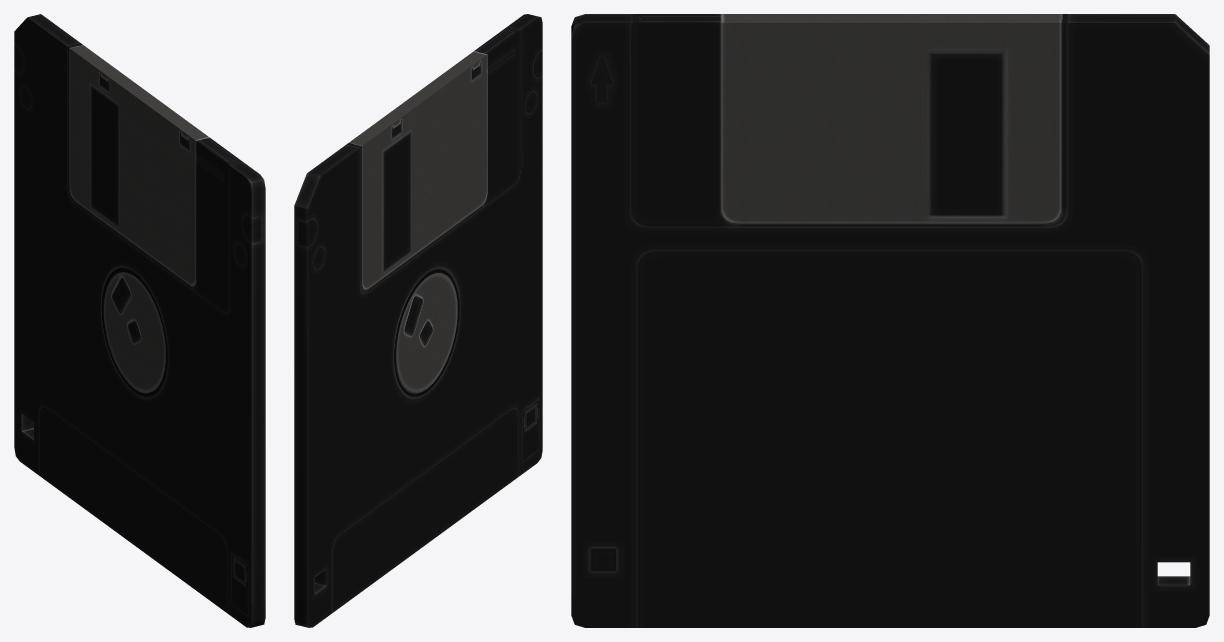
3 renders of one model, left to right at view 1: azimuth 30°, elevation 25°; view 2: azimuth 150°, elevation 25°; view 3: azimuth 270°, elevation 25°, orthographic. The views are drawn at different scales.
Parts seen in each view (by area): view 1: Object_2; view 2: Object_2; view 3: Object_2.
Part boxes in pixels (box(x1,y1,x2,y2)): Object_2: box(14, 14, 265, 627); Object_2: box(294, 14, 542, 627); Object_2: box(571, 14, 1209, 627).
Bounding box in the file's own units: 0.1181 × 3.7 × 3.54.
1 material, 1 textured.
